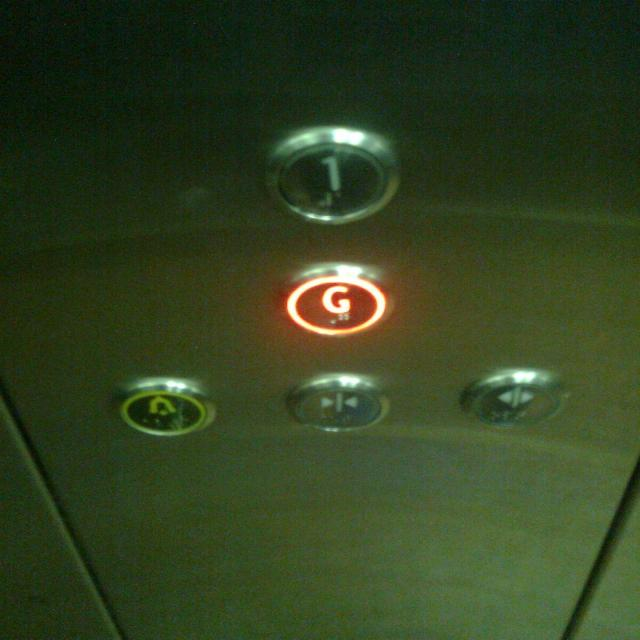1: (261, 125, 408, 228)
G: (273, 262, 395, 341)
alarm: (114, 378, 218, 440)
close: (286, 373, 391, 435)
open: (462, 368, 566, 430)
